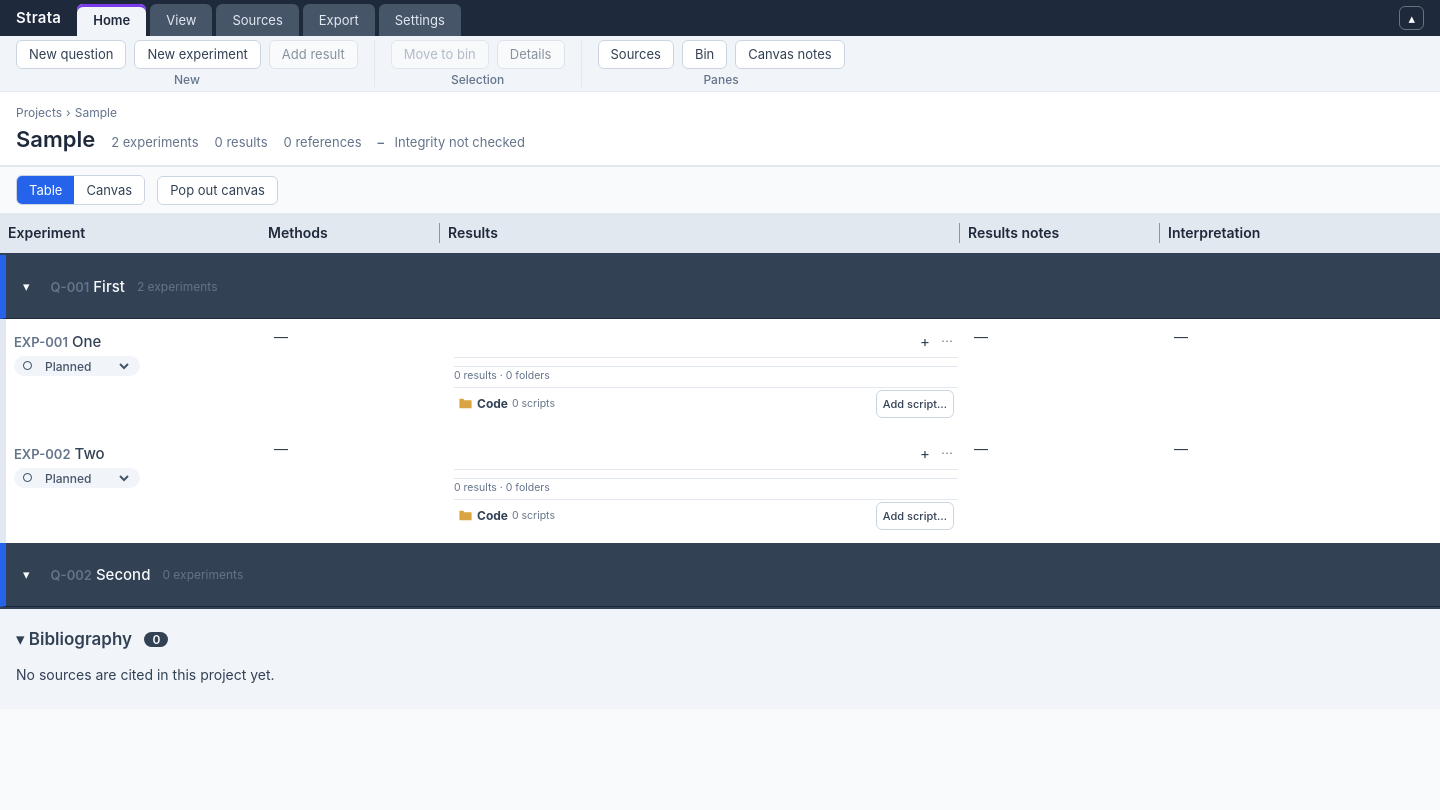
Scenario: the workspace (S6-T01) › opens the integrity check from the Settings tab, and does not run it until asked
The width and height of the screenshot is (1440, 810).
Click the tab "Settings": (420, 20) [379,4,461,36]
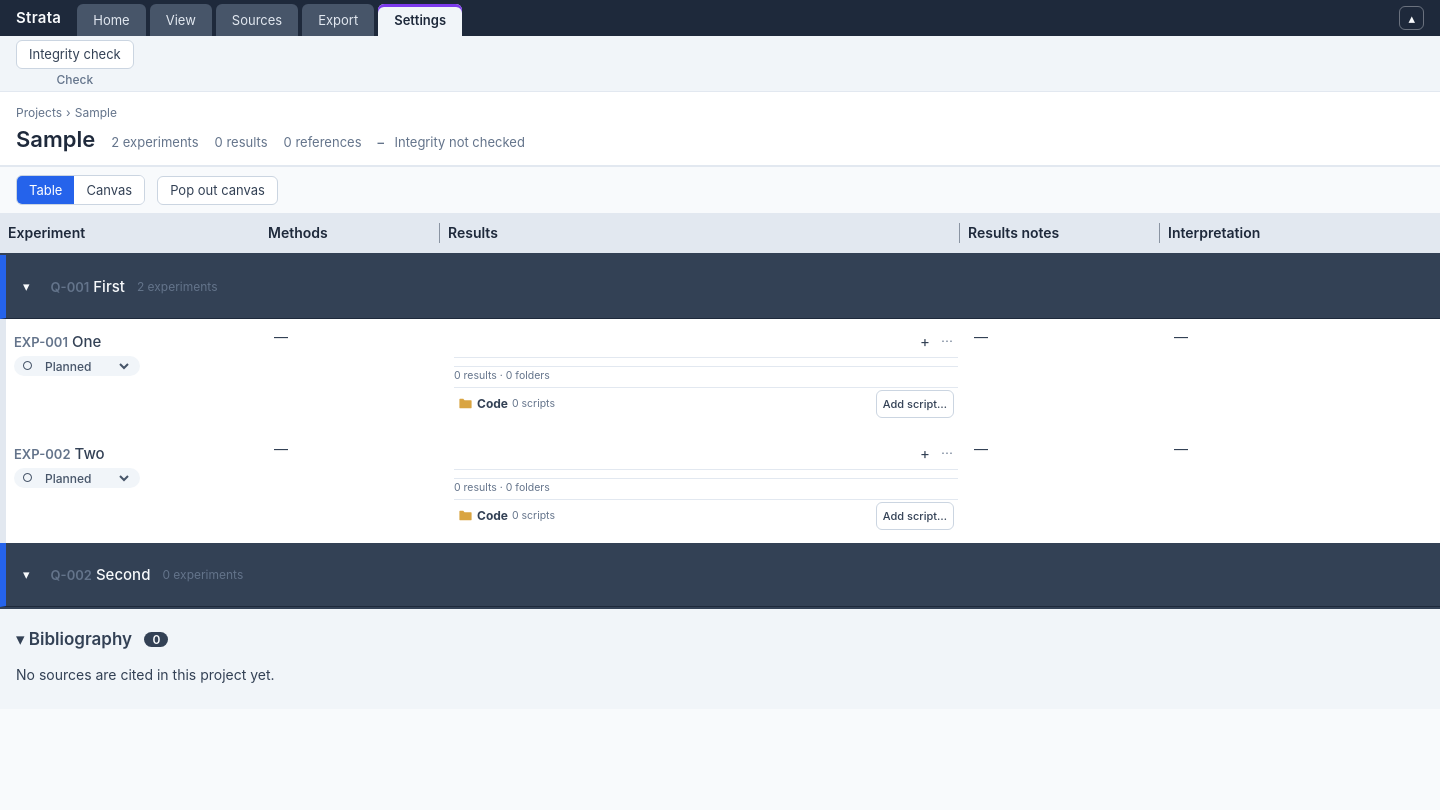
Click the button "Integrity check": (75, 54) [16,40,134,69]
(page scrolled)
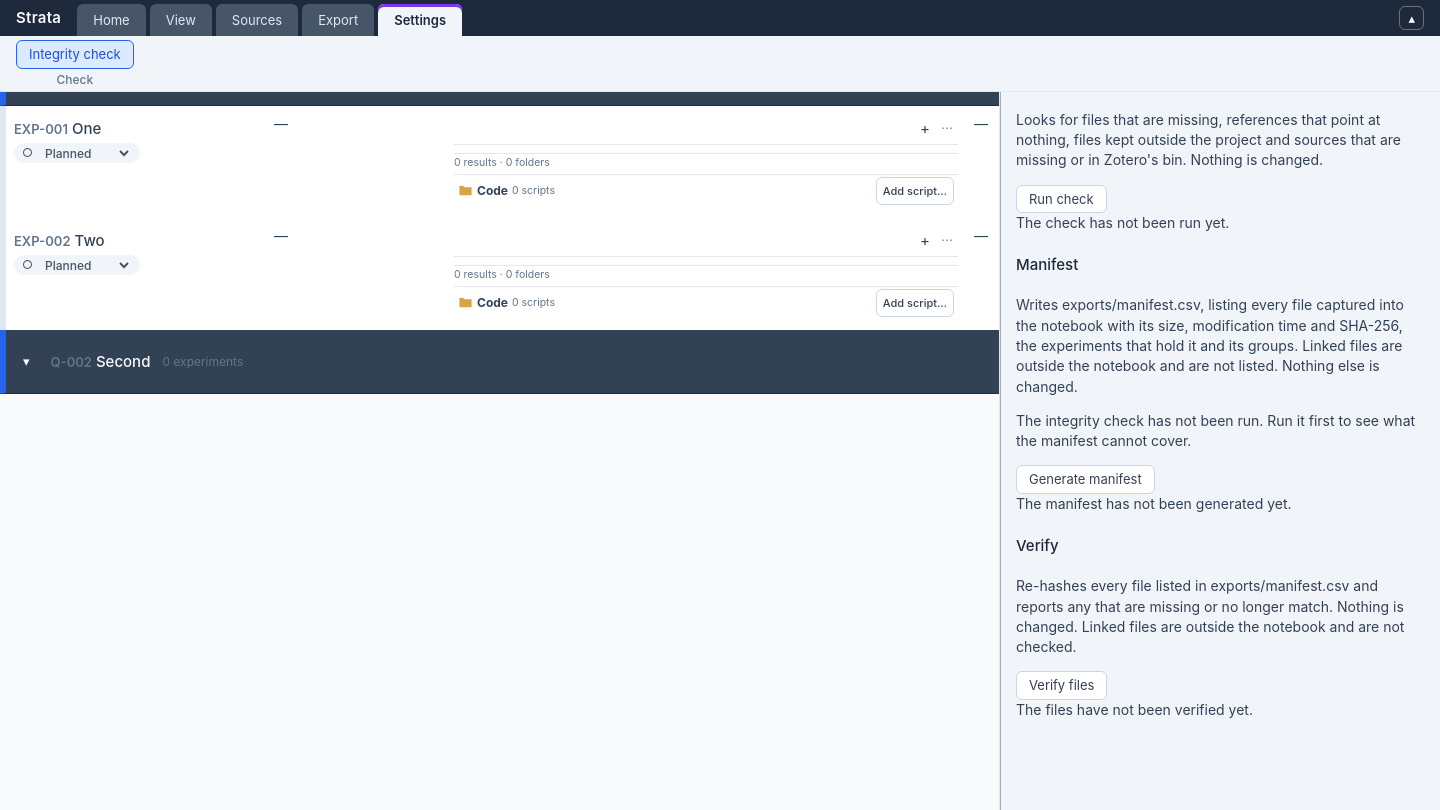
Expected: the element named "Side pane" shows "Integrity check", [1008,8,1116,36]
Expected: the element named "Side pane" shows "has not been run", [1016,214,1229,232]
